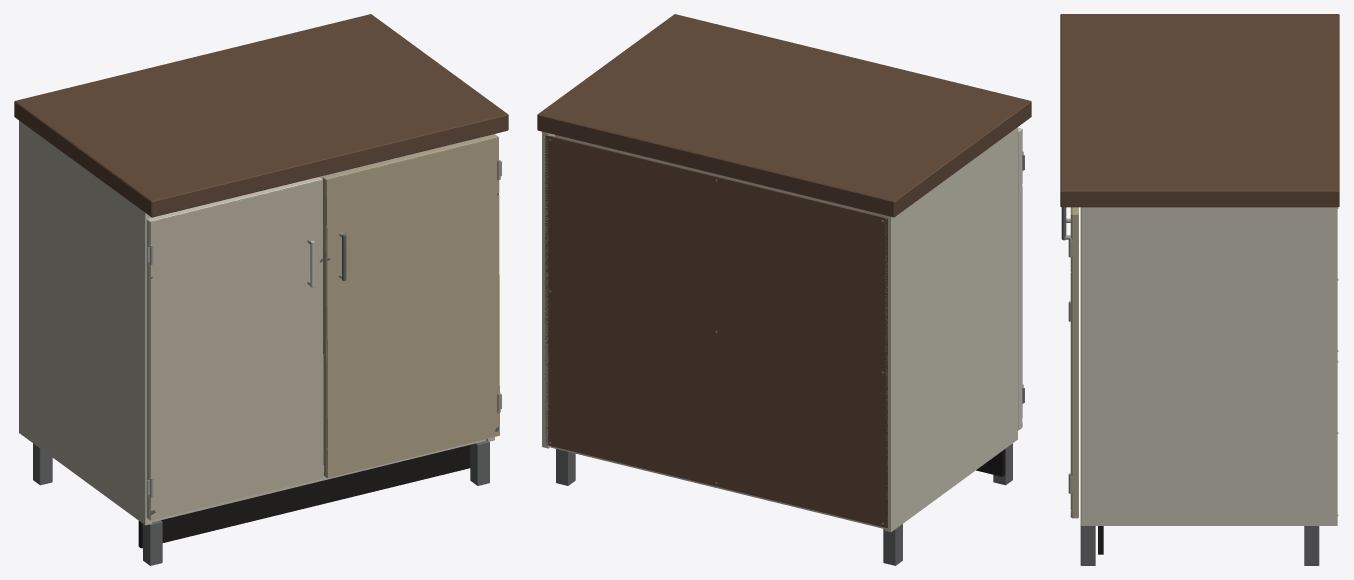
Rendered from kitchen-base-cabinet-c0d3d457dcf8.glb.
The picture shows the model from 3 angles, left to right: view 1: azimuth 30°, elevation 25°; view 2: azimuth 150°, elevation 25°; view 3: azimuth 270°, elevation 25°; orthographic projection.
Visible parts, largest first — view 1: wood-coffee, paint-rescued-beige, paint-rescued-cream, enamel, enamel-black, metal, enamel-beige; view 2: wood, wood-coffee, enamel, metal; view 3: enamel, wood-coffee, enamel-beige, metal, paint-rescued-beige.
Part boxes in pixels (x1=…): wood-coffee: x1=14, y1=14, x2=508, y2=217; paint-rescued-beige: x1=326, y1=137, x2=499, y2=477; paint-rescued-cream: x1=150, y1=180, x2=322, y2=520; enamel: x1=19, y1=120, x2=494, y2=525; enamel-black: x1=138, y1=445, x2=470, y2=548; metal: x1=33, y1=137, x2=499, y2=565; enamel-beige: x1=322, y1=134, x2=498, y2=477; wood: x1=545, y1=135, x2=887, y2=528; wood-coffee: x1=537, y1=14, x2=1031, y2=217; enamel: x1=542, y1=127, x2=1022, y2=531; metal: x1=556, y1=443, x2=1012, y2=565; enamel: x1=1080, y1=207, x2=1337, y2=525; wood-coffee: x1=1060, y1=14, x2=1339, y2=207; enamel-beige: x1=1071, y1=207, x2=1078, y2=518; metal: x1=1061, y1=207, x2=1319, y2=565; paint-rescued-beige: x1=1070, y1=207, x2=1071, y2=517.
Bounding box in the file's own units: 0.9 × 0.9 × 0.6.
